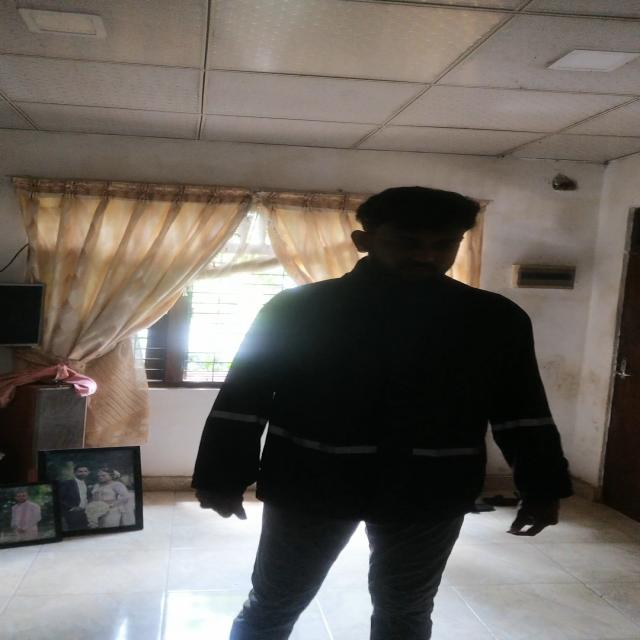Jacket_Wearer: (192, 267, 574, 534)
Person: (191, 187, 577, 640)
